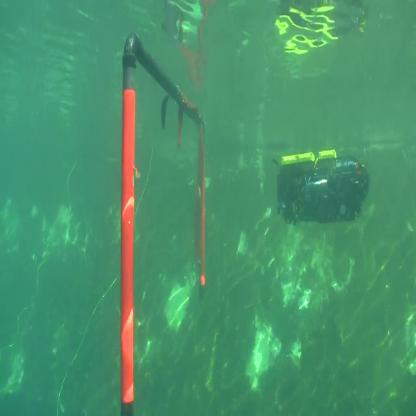gate: (121, 30, 211, 416)
